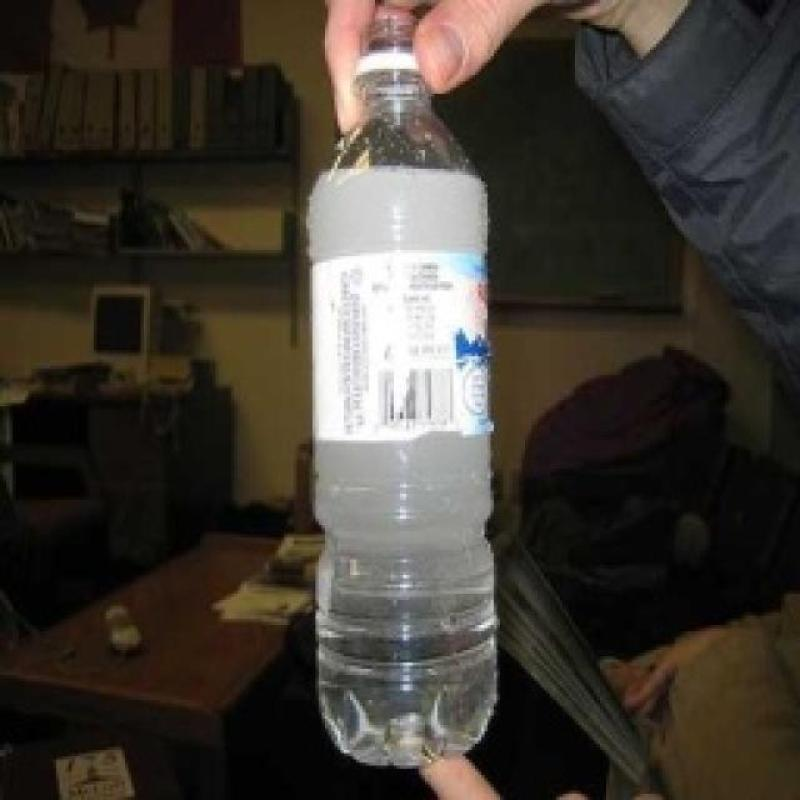botella: (302, 19, 508, 766)
